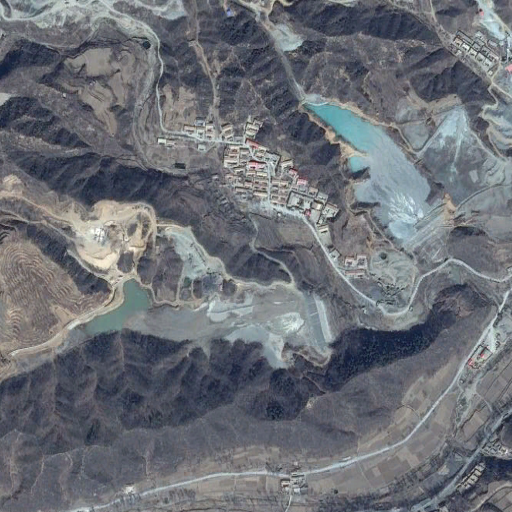tp: (70, 278, 342, 361), (299, 98, 446, 242)
